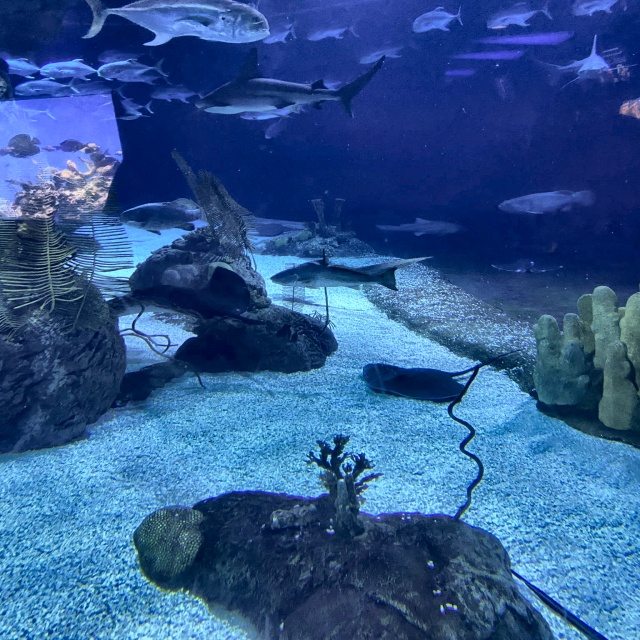fish: (80, 0, 267, 47), (270, 262, 398, 290), (118, 203, 211, 235), (496, 189, 592, 216), (484, 0, 553, 29), (98, 57, 169, 81), (412, 5, 464, 34), (358, 40, 414, 65), (13, 77, 78, 97), (41, 58, 99, 80), (309, 17, 358, 42), (74, 81, 126, 99), (568, 0, 623, 17), (0, 57, 43, 78), (8, 134, 41, 157), (151, 85, 194, 102), (265, 25, 297, 45), (265, 118, 288, 139), (53, 139, 85, 152), (0, 145, 14, 157)
shark: (198, 48, 385, 121), (533, 35, 634, 89), (375, 218, 468, 237), (107, 98, 154, 120)
stingray: (110, 266, 250, 318), (361, 364, 465, 402), (489, 258, 563, 274), (253, 222, 303, 235)
